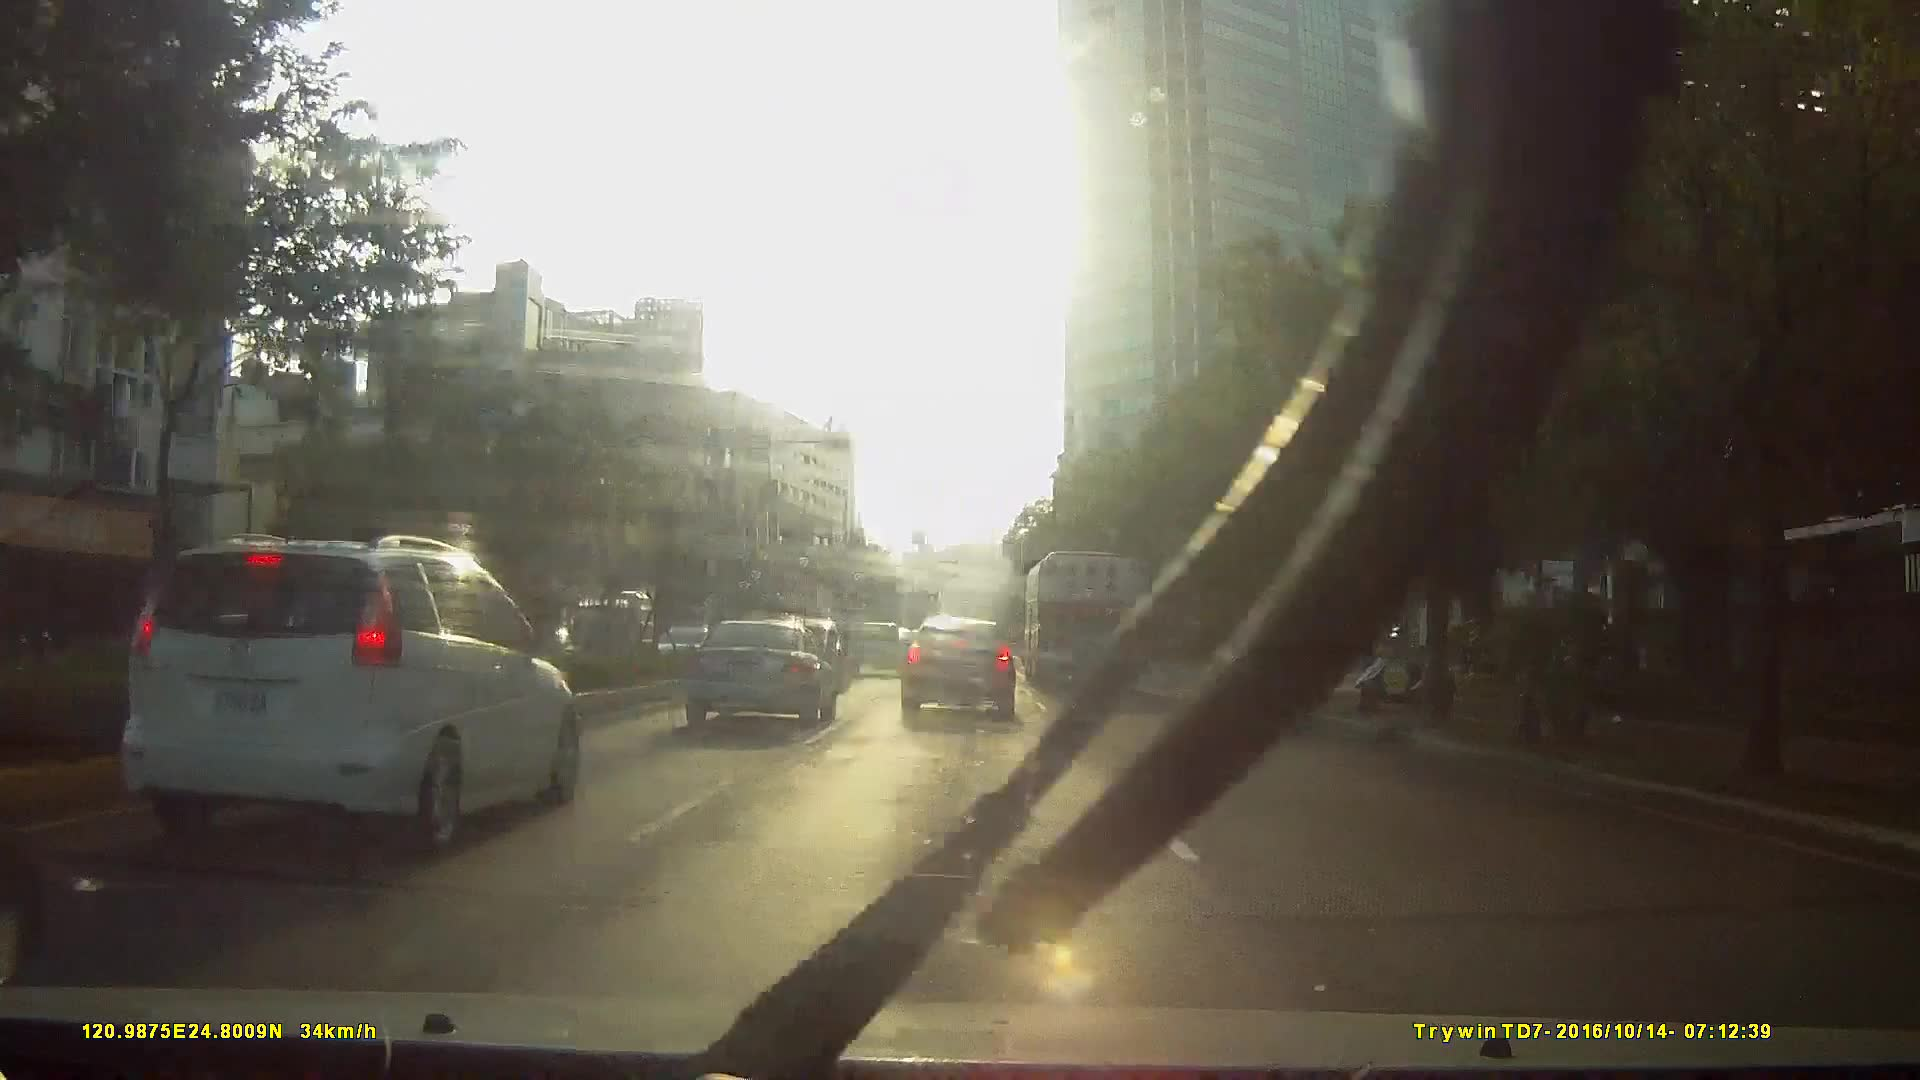vehicle: (105, 525, 587, 872), (251, 556, 684, 868), (673, 616, 833, 732), (1021, 541, 1143, 692), (897, 616, 1019, 723), (551, 587, 647, 670), (847, 620, 902, 676)
